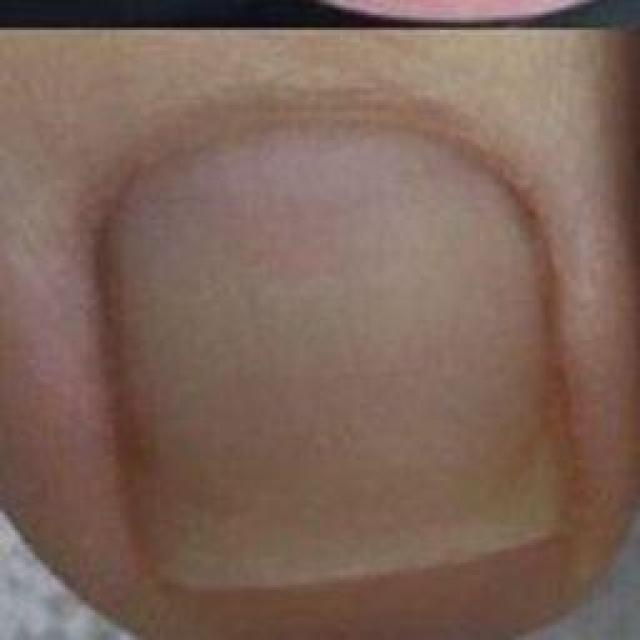Nail: (98, 123, 572, 595)
